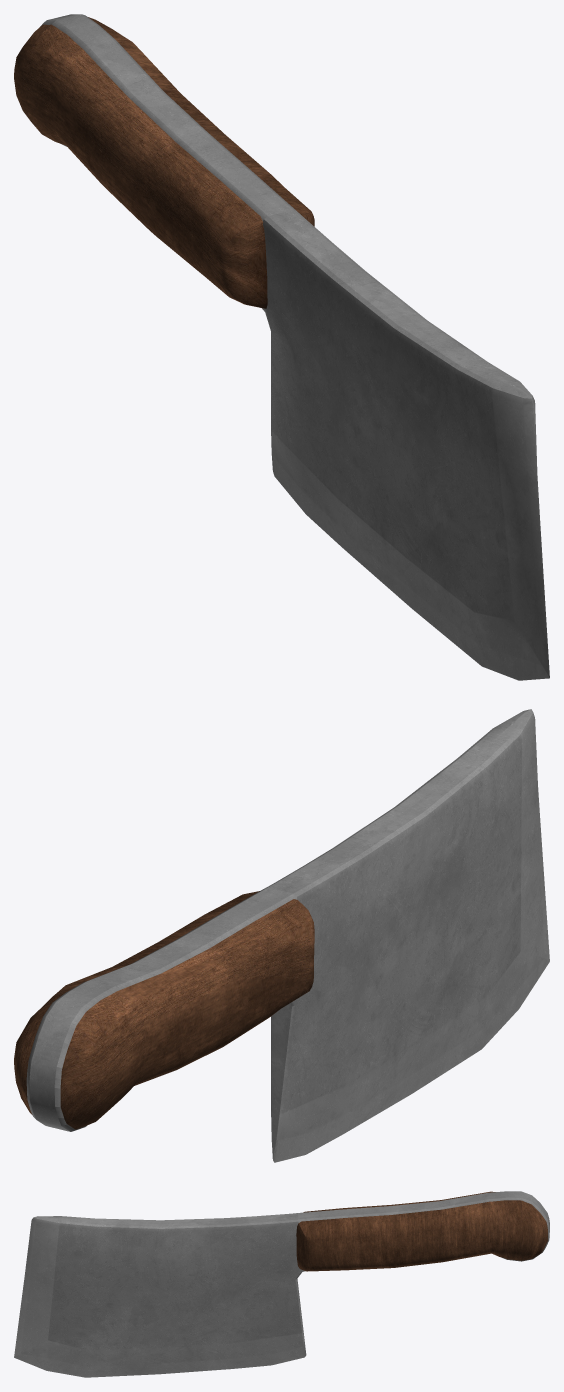
The model's file is Knife_Mesh.fbx.
The picture shows the model from 3 angles, top to bottom: view 1: azimuth 30°, elevation 25°; view 2: azimuth 150°, elevation 25°; view 3: azimuth 270°, elevation 25°; orthographic projection. The views are drawn at different scales.
Visible parts, largest first — view 1: Blade, Knife; view 2: Blade, Knife; view 3: Blade, Knife.
Boxes of the visible parts, x1,y1,x2,y2 form: Blade: [39, 14, 549, 680]; Knife: [14, 17, 314, 308]; Blade: [26, 709, 549, 1162]; Knife: [14, 891, 314, 1129]; Blade: [14, 1191, 549, 1377]; Knife: [296, 1191, 547, 1271].
Size of the model in its own units: 30.53 by 104 by 277.
